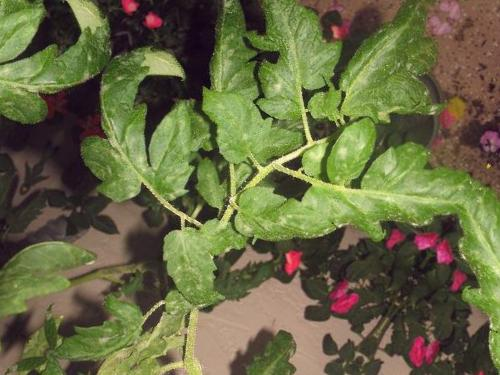Tomato mold leaf: (52, 32, 244, 235), (324, 116, 483, 282), (192, 0, 374, 139), (328, 0, 481, 148), (0, 204, 100, 346), (221, 168, 342, 282), (50, 276, 157, 375), (139, 216, 243, 315), (306, 102, 391, 196)
